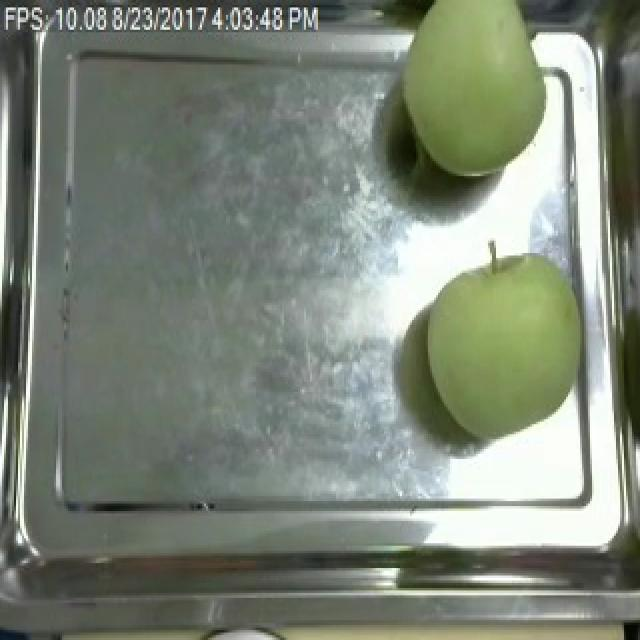50-_ripeness: (422, 237, 590, 463), (391, 0, 560, 188)
